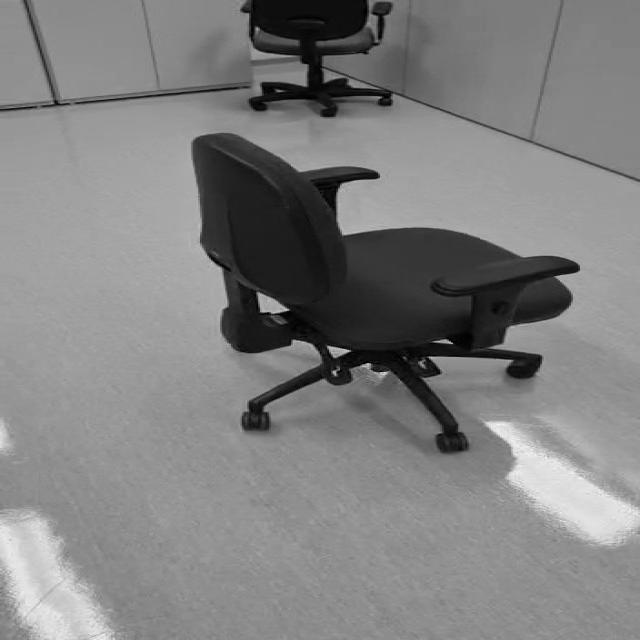cadeira-azul: (188, 132, 582, 454)
